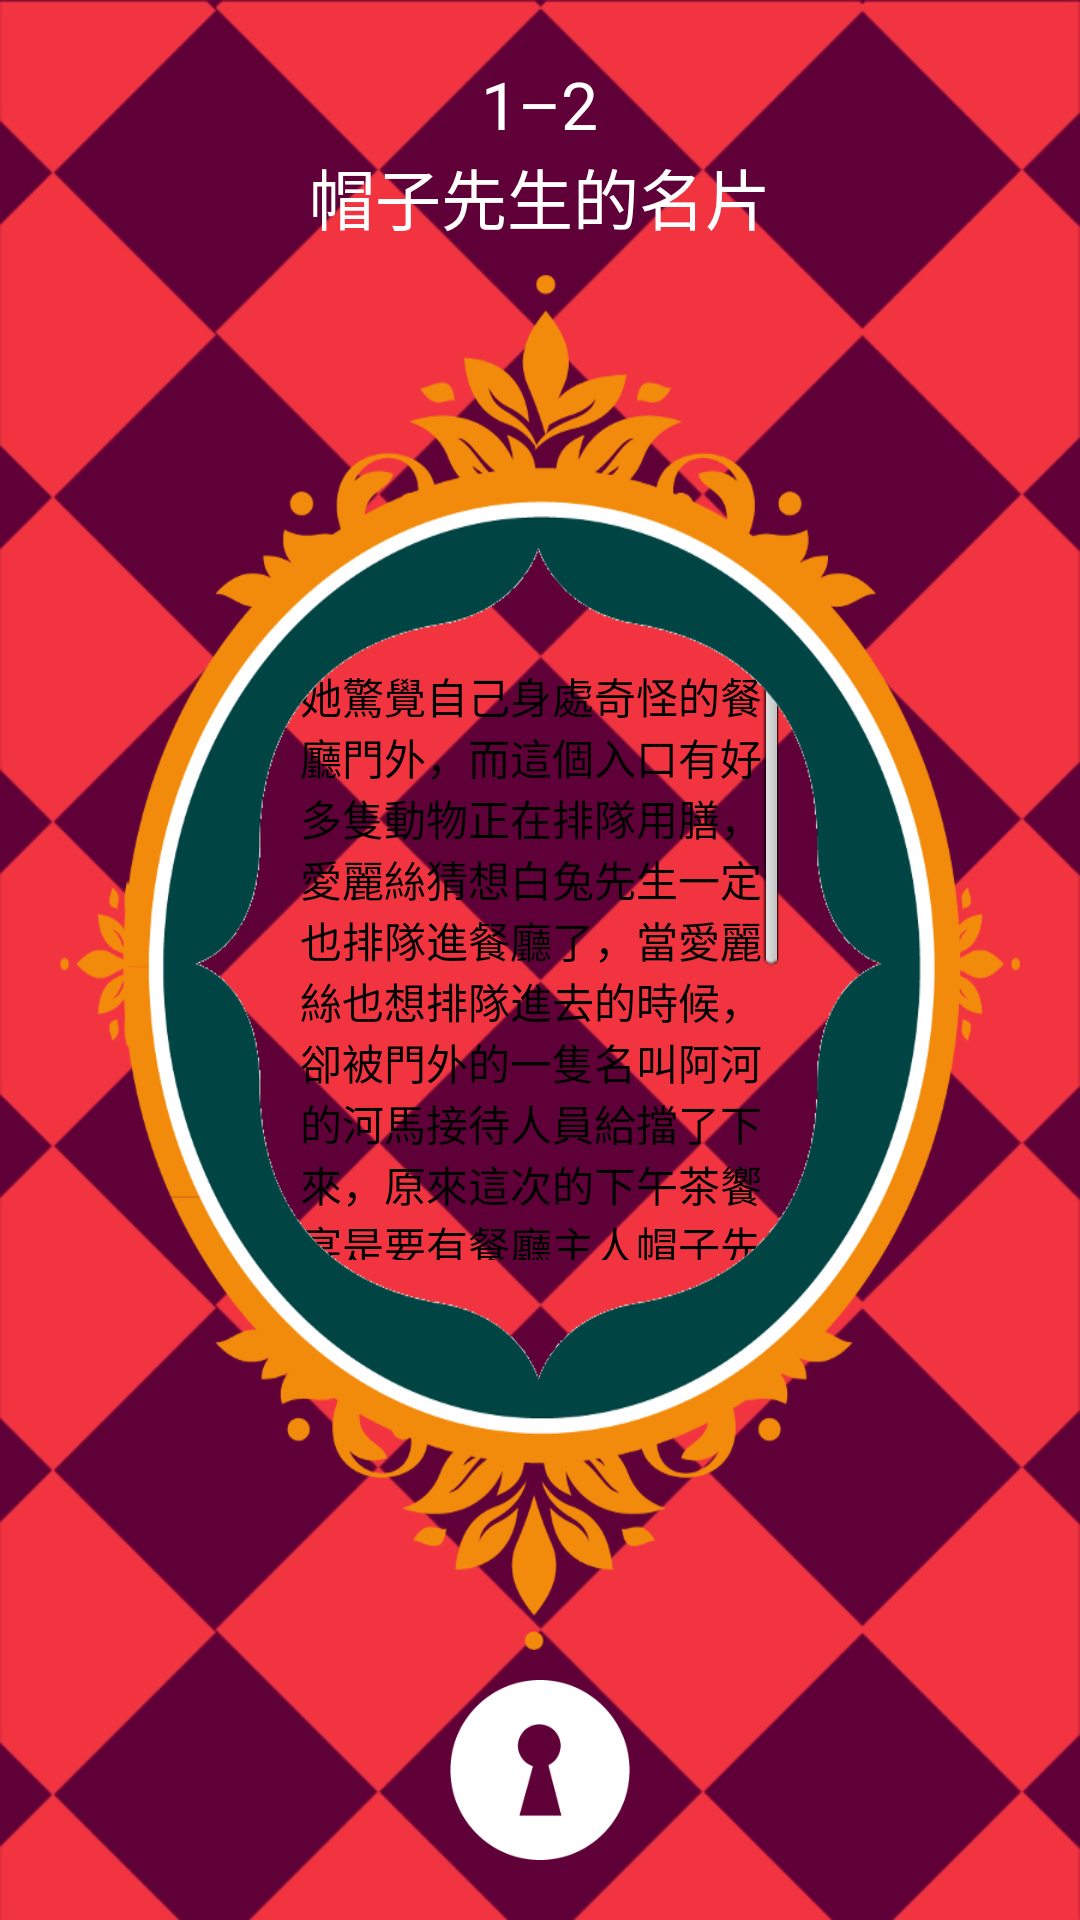

Locate icon controls on the screen. Image size 1080×1920, boxes as (x1, y1, x2, y2).
lock: (450, 1680, 630, 1860)
